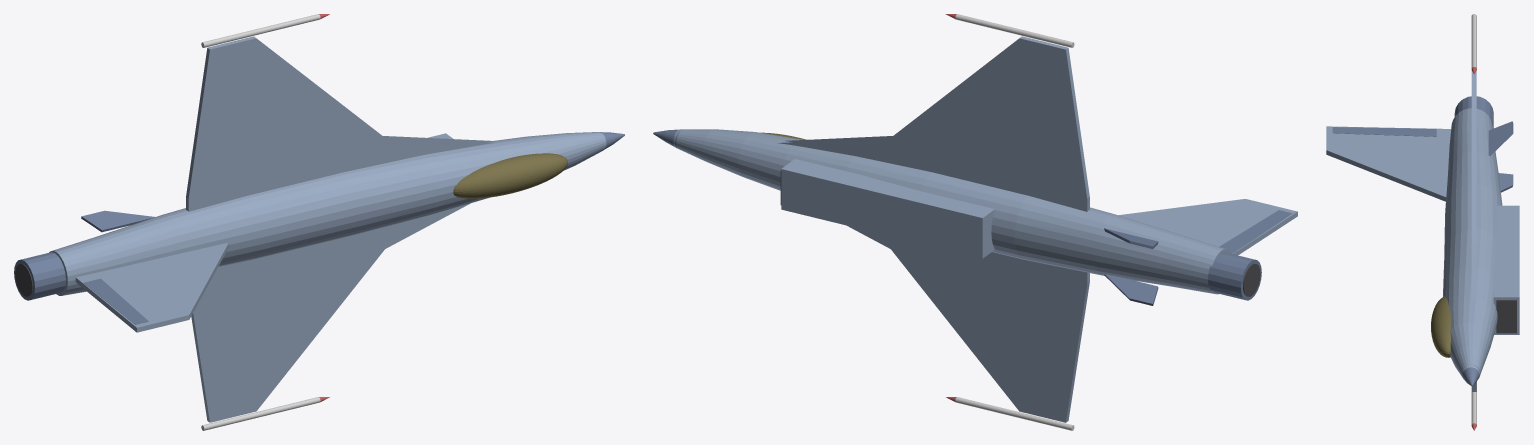
Rendered from f16_body_blue.glb.
3 views of the same model, side by side, from view 1: azimuth 30°, elevation 25°; view 2: azimuth 150°, elevation 25°; view 3: azimuth 270°, elevation 25° (orthographic). The views are drawn at different scales.
Visible parts, largest first — view 1: part0, part5, part6, part11, part4, part15, part13, part12, part7, part9; view 2: part5, part0, part6, part2, part11, part15, part14, part12, part7, part9; view 3: part0, part11, part2, part5, part4, part12, part3, part13, part15, part7, part1, part14 (+1 smaller).
Boxes of the visible parts, left/top/right/bottom form: part0: left=49, top=132, right=606, bottom=295; part5: left=186, top=36, right=495, bottom=211; part6: left=191, top=203, right=470, bottom=422; part11: left=75, top=242, right=228, bottom=332; part4: left=453, top=153, right=568, bottom=198; part15: left=14, top=252, right=65, bottom=300; part13: left=81, top=210, right=154, bottom=232; part12: left=83, top=278, right=148, bottom=324; part7: left=201, top=14, right=320, bottom=47; part9: left=201, top=397, right=320, bottom=430; part5: left=778, top=36, right=1089, bottom=211; part0: left=673, top=129, right=1230, bottom=294; part6: left=847, top=225, right=1089, bottom=422; part2: left=781, top=159, right=994, bottom=258; part11: left=1118, top=199, right=1297, bottom=255; part15: left=1208, top=252, right=1261, bottom=300; part14: left=1104, top=274, right=1158, bottom=305; part12: left=1219, top=210, right=1292, bottom=253; part7: left=955, top=14, right=1074, bottom=47; part9: left=955, top=397, right=1074, bottom=430; part0: left=1443, top=108, right=1502, bottom=378; part11: left=1326, top=126, right=1451, bottom=201; part2: left=1493, top=205, right=1519, bottom=334; part5: left=1471, top=70, right=1476, bottom=300; part4: left=1431, top=296, right=1450, bottom=357; part12: left=1332, top=127, right=1436, bottom=136; part3: left=1496, top=300, right=1516, bottom=333; part13: left=1488, top=121, right=1513, bottom=155; part15: left=1454, top=96, right=1493, bottom=128; part7: left=1471, top=14, right=1476, bottom=68; part1: left=1462, top=364, right=1480, bottom=386; part14: left=1498, top=173, right=1513, bottom=192.
Bounding box in the file's own units: 15.47 × 9.57 × 4.64.
